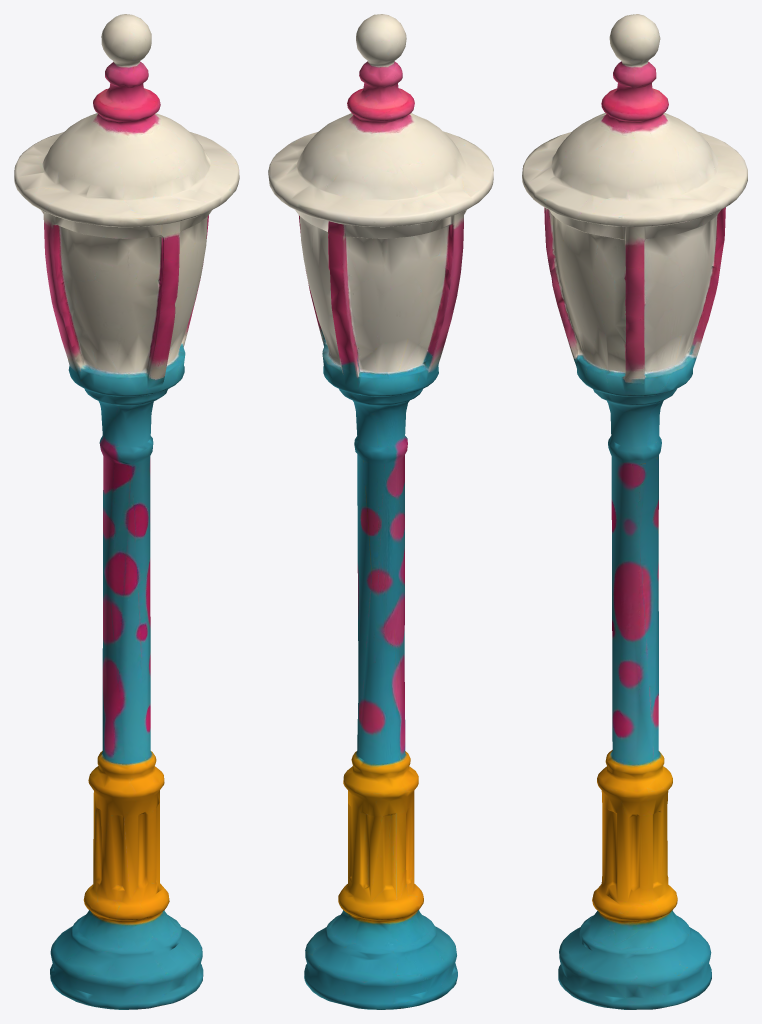
The model's file is clay-streetlamp.glb.
The picture shows the model from 3 angles, left to right: view 1: azimuth 30°, elevation 25°; view 2: azimuth 150°, elevation 25°; view 3: azimuth 270°, elevation 25°; orthographic projection.
Size of the model in its own units: 0.4069 by 1.91 by 0.4067.
1 material, 1 textured.
